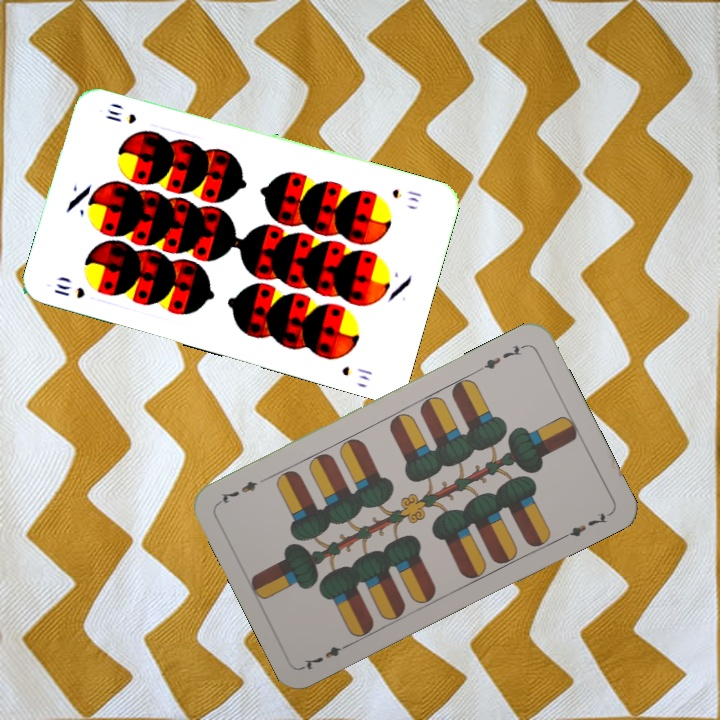E7: (300, 638, 355, 673), (474, 340, 528, 375)
S10: (49, 279, 88, 301), (388, 184, 424, 205)
